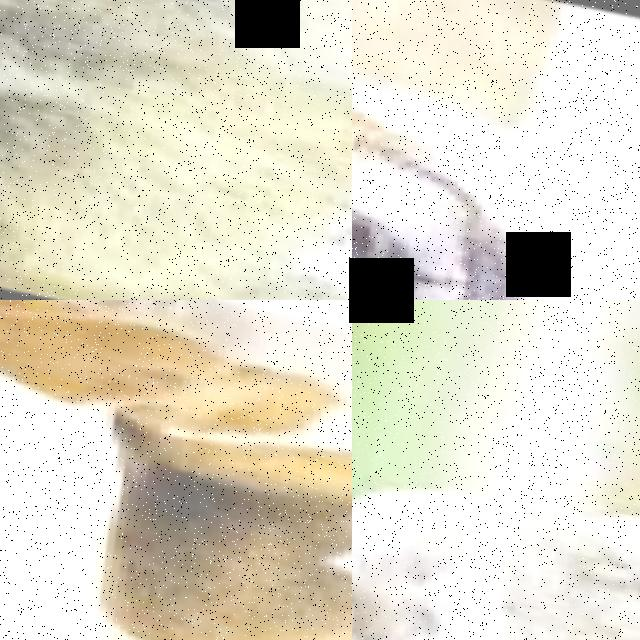dog: (0, 300, 352, 640), (352, 306, 640, 640), (352, 0, 640, 300)
wolf: (0, 0, 352, 300)
